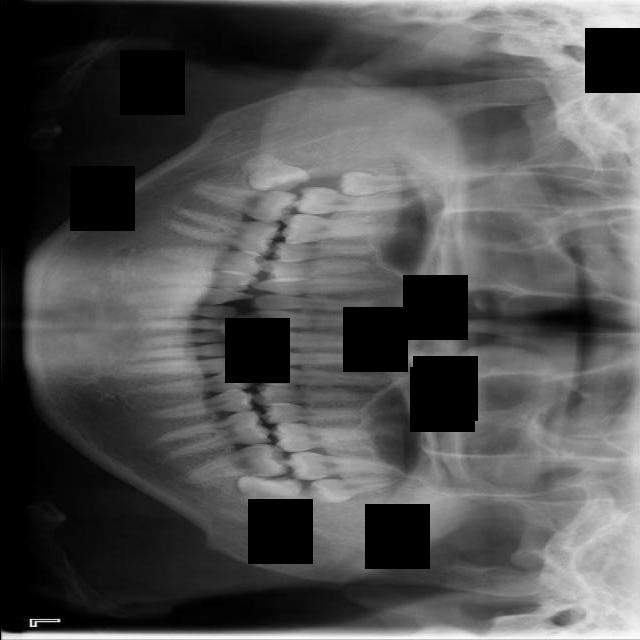3M ESPE Implant: (335, 171, 432, 195)
73: (40, 596, 50, 604)
BioHorizons Implant: (281, 446, 406, 482)
BioLife Implant: (305, 472, 402, 505)
Biomet 3i Implant: (232, 469, 302, 520)
Blue Sky Bio Implant: (180, 441, 290, 486)
Caries: (292, 186, 415, 214)
Implant: (188, 182, 300, 227)
Keystone Dental Implant: (243, 153, 310, 193)
